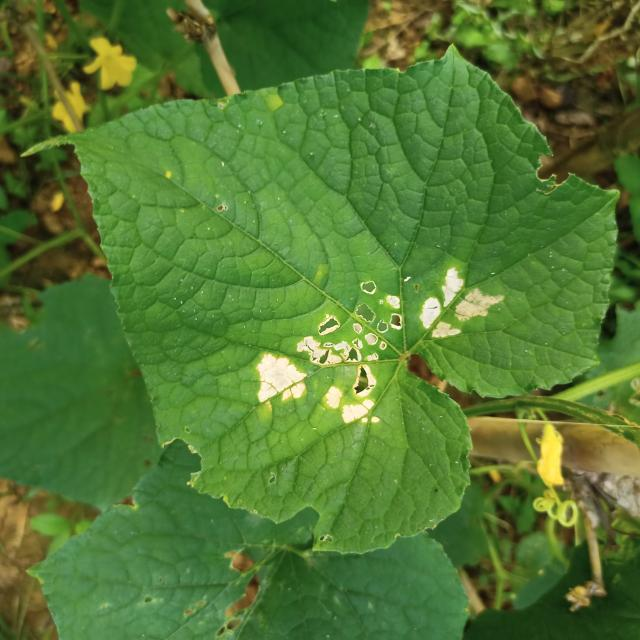disease_cucumber: (256, 278, 406, 432), (417, 264, 502, 344)
